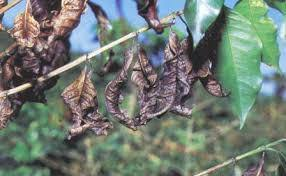mal de hilachas: (87, 11, 241, 136), (1, 1, 71, 105)
